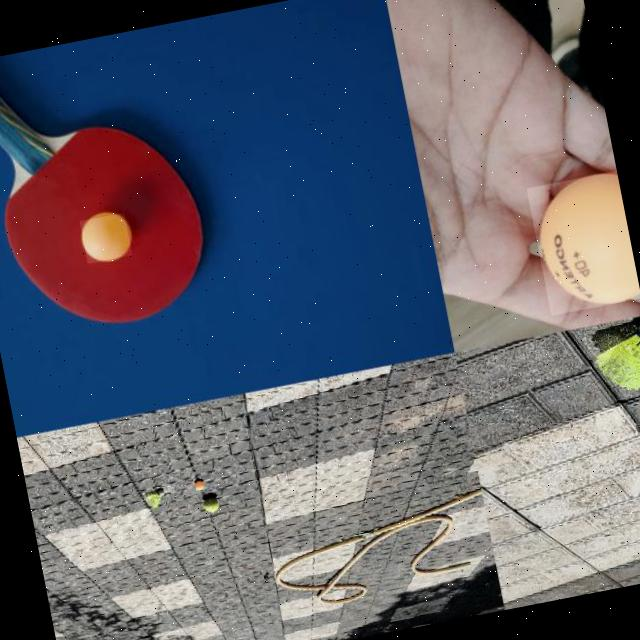ping-pong-ball: (526, 170, 640, 315), (80, 212, 134, 264), (194, 479, 206, 492)
